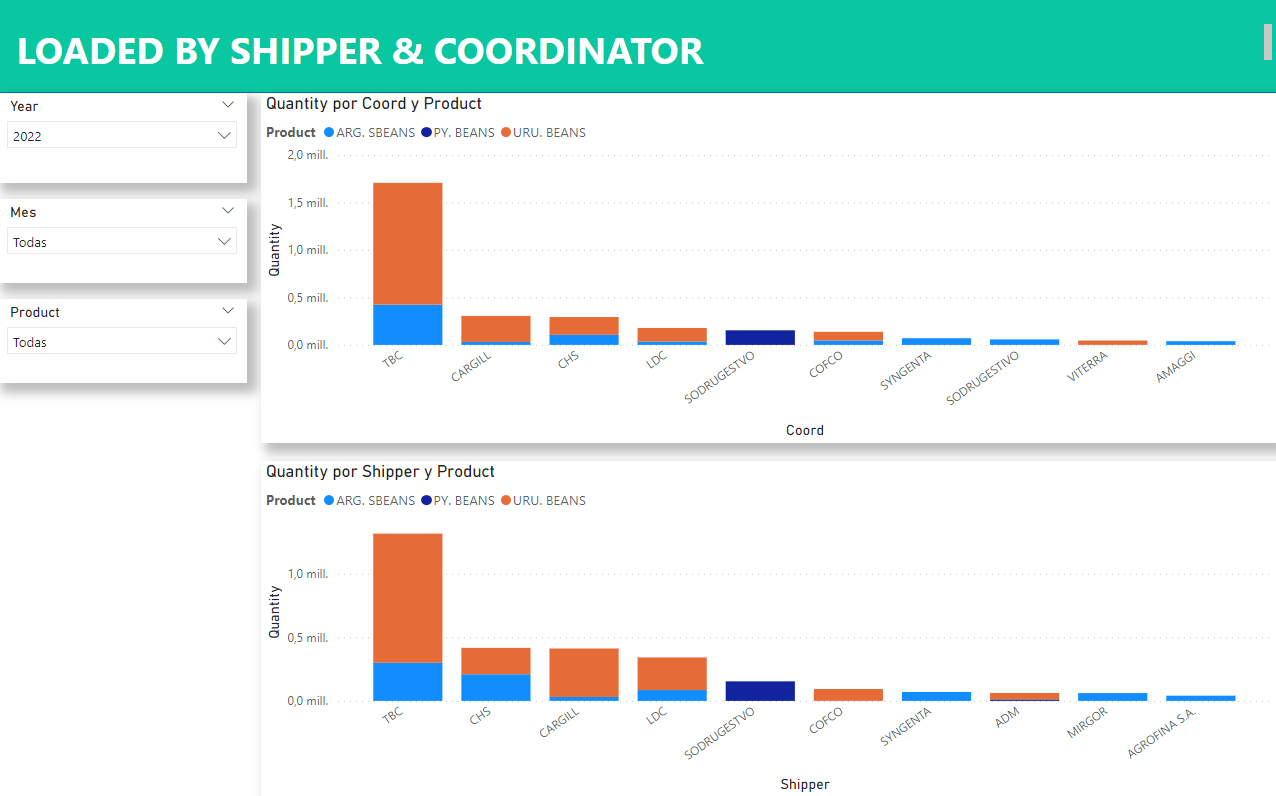

This screenshot's page, from the dashboard's own definition file:
{"tool":"powerbi","page":{"name":"Loaded by shipper &coordinator","canvas":[1280,800],"ordinal":4},"visuals":[{"type":"shape","box":[0,0,1280,96],"z":0},{"type":"textbox","box":[0,22,1280,52],"z":1000},{"type":"slicer","fields":{"Values":["LineupExpo.Year"]},"box":[0,96,250,90],"z":2000},{"type":"slicer","fields":{"Values":["LineupExpo.Month.Variación.Jerarquía de fechas.Mes"]},"box":[0,202,250,84],"z":3000},{"type":"slicer","fields":{"Values":["LineupExpo.Product"]},"box":[0,302,250,84],"z":4000},{"type":"columnChart","fields":{"Y":["Sum(LineupExpo.Quantity)"],"Category":["LineupExpo.Coord"],"Series":["LineupExpo.Product"]},"box":[264,96,1016,350],"z":5000},{"type":"columnChart","fields":{"Y":["Sum(LineupExpo.Quantity)"],"Series":["LineupExpo.Product"],"Category":["LineupExpo.Shipper"]},"box":[264,464,1016,336],"z":6000}]}

Visuals, with their boxes in screenshot pixels (x1, y1, x2, y2), scaled from the page's 1280x800 canvas onto the 1276x796 screenshot:
shape: Rect(0, 0, 1275, 96)
textbox: Rect(0, 22, 1275, 74)
slicer - LineupExpo.Year: Rect(0, 96, 249, 185)
slicer - LineupExpo.Month.Variación.Jerarquía de fechas.Mes: Rect(0, 201, 249, 285)
slicer - LineupExpo.Product: Rect(0, 300, 249, 384)
columnChart - Sum(LineupExpo.Quantity) x LineupExpo.Coord: Rect(263, 96, 1275, 444)
columnChart - Sum(LineupExpo.Quantity) x LineupExpo.Product: Rect(263, 462, 1275, 795)
